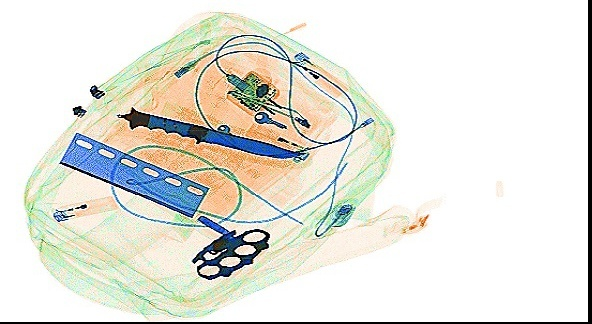knife: (114, 103, 307, 160)
lighter: (244, 121, 312, 163), (292, 48, 349, 97), (50, 194, 119, 221)
